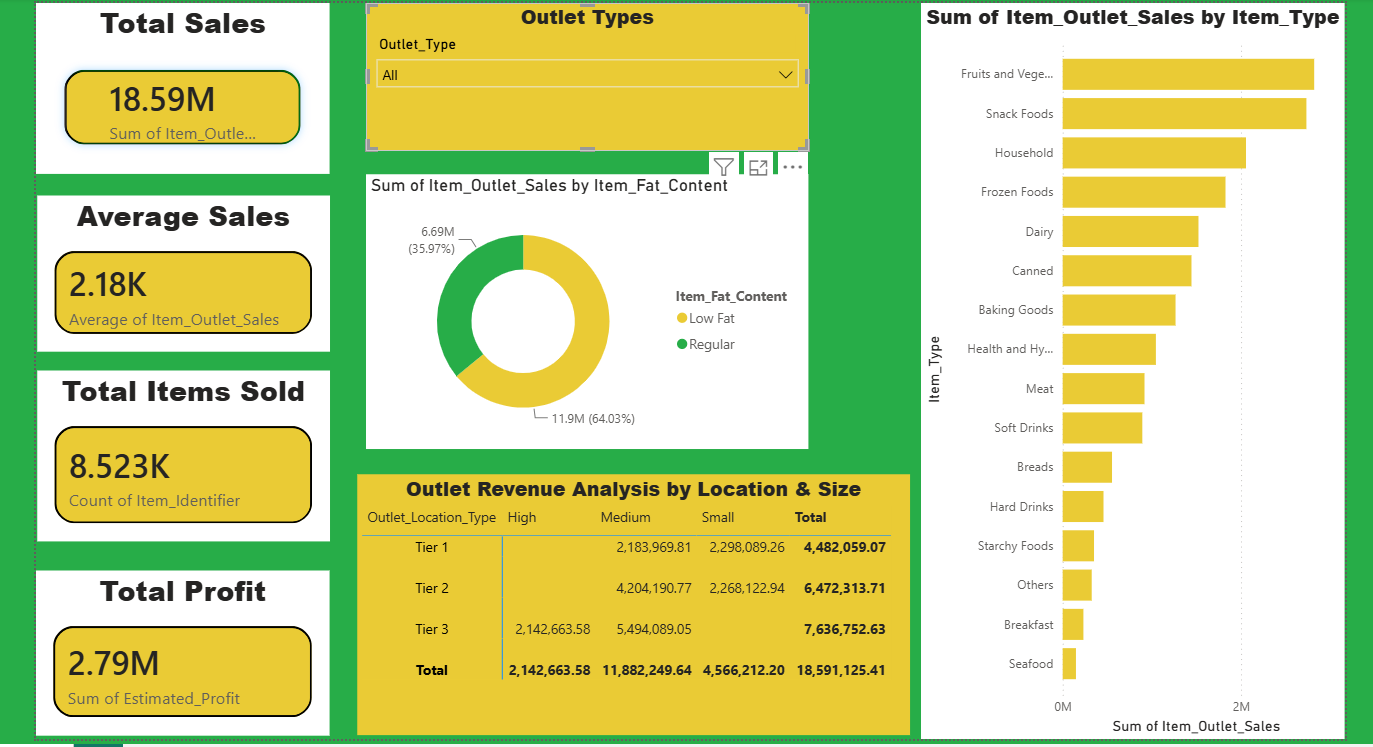

What the dashboard file says about the page in this screenshot:
{"tool":"powerbi","page":{"name":"Page 1","canvas":[1280,720],"ordinal":0},"visuals":[{"type":"cardVisual","title":"Total Sales","fields":{"Data":["Sum(blinkit_cleaned_final.Item_Outlet_Sales)"]},"box":[0,0,287.4,167.5],"z":0},{"type":"cardVisual","title":"Total Profit","fields":{"Data":["Sum(blinkit_cleaned_final.Estimated_Profit)"]},"box":[0,555.2,287.4,161.4],"z":1},{"type":"cardVisual","title":"Average Sales","fields":{"Data":["Avg(blinkit_cleaned_final.Item_Outlet_Sales)"]},"box":[1.2,188.3,286.1,152.9],"z":2},{"type":"cardVisual","title":"Total Items Sold","fields":{"Data":["CountNonNull(blinkit_cleaned_final.Item_Identifier)"]},"box":[1.2,359.5,286.1,167.5],"z":3},{"type":"clusteredBarChart","fields":{"Category":["blinkit_cleaned_final.Item_Type"],"Y":["Sum(blinkit_cleaned_final.Item_Outlet_Sales)"]},"box":[865.8,0,414.5,720.2],"z":4},{"type":"donutChart","fields":{"Category":["blinkit_cleaned_final.Item_Fat_Content"],"Y":["Sum(blinkit_cleaned_final.Item_Outlet_Sales)"]},"box":[322.8,167.5,432.9,269],"z":7},{"type":"slicer","title":"Outlet Types","fields":{"Values":["blinkit_cleaned_final.Outlet_Type"]},"box":[322.8,0,432.9,144.3],"z":9},{"type":"pivotTable","title":"Outlet Revenue Analysis by Location & Size","fields":{"Rows":["blinkit_cleaned_final.Outlet_Location_Type"],"Values":["Sum(blinkit_cleaned_final.Item_Outlet_Sales)"],"Columns":["blinkit_cleaned_final.Outlet_Size"]},"box":[314.3,461,540.5,255.6],"z":10}]}

Visuals, with their boxes in screenshot pixels (x1, y1, x2, y2):
"Total Sales" cardVisual: left=32, top=0, right=326, bottom=171
"Total Profit" cardVisual: left=32, top=568, right=326, bottom=733
"Average Sales" cardVisual: left=33, top=193, right=326, bottom=349
"Total Items Sold" cardVisual: left=33, top=368, right=326, bottom=539
clusteredBarChart - blinkit_cleaned_final.Item_Type x Sum(blinkit_cleaned_final.Item_Outlet_Sales): left=918, top=0, right=1343, bottom=737
donutChart - blinkit_cleaned_final.Item_Fat_Content x Sum(blinkit_cleaned_final.Item_Outlet_Sales): left=363, top=171, right=806, bottom=447
"Outlet Types" slicer: left=363, top=0, right=806, bottom=148
"Outlet Revenue Analysis by Location & Size" pivotTable: left=354, top=472, right=907, bottom=733
